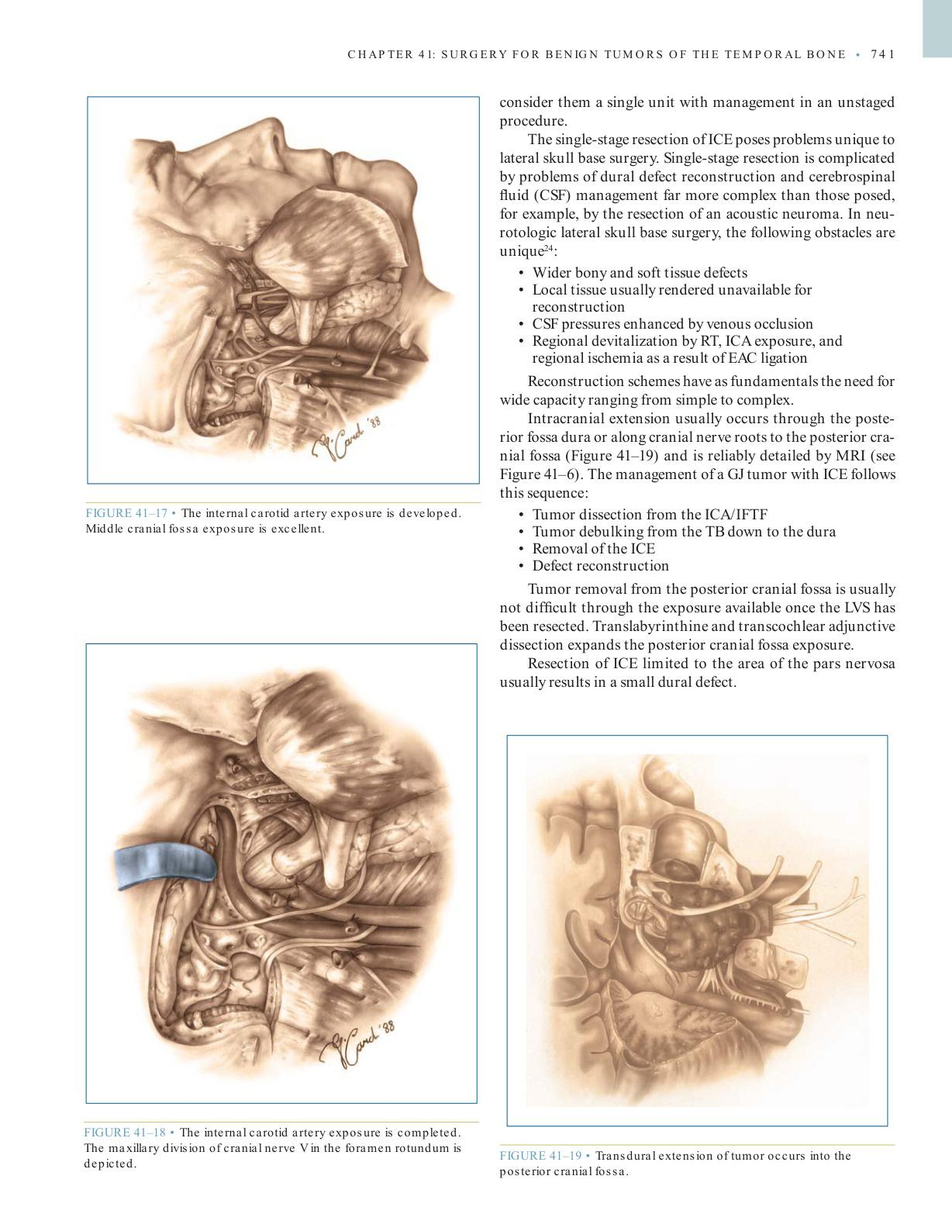caption: (82, 1125, 462, 1172), (84, 506, 462, 537), (498, 1148, 853, 1181)
header: (346, 47, 846, 60)
image: (92, 649, 470, 1097), (92, 102, 473, 476), (514, 740, 880, 1118)
text: (497, 94, 897, 692)
